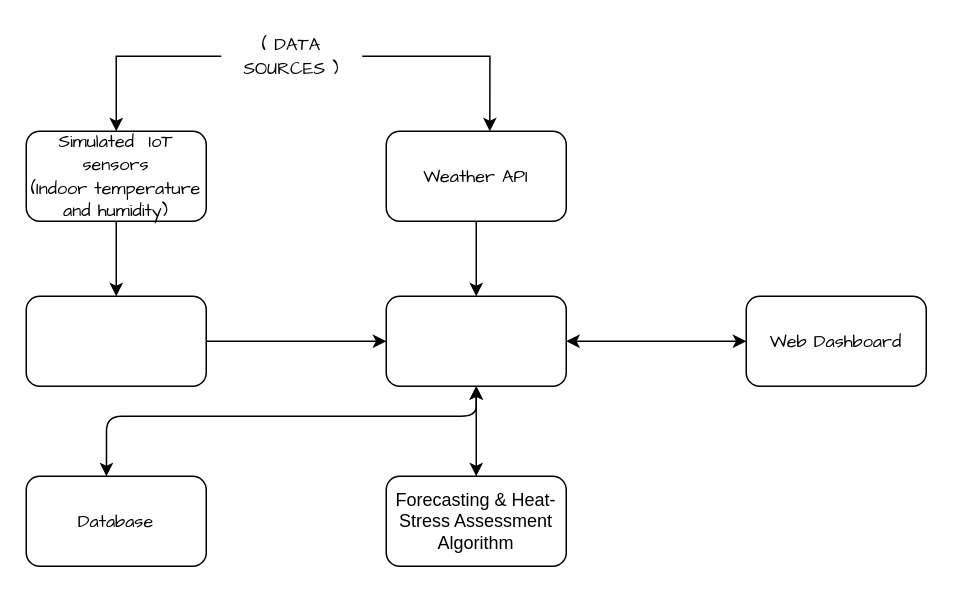
The diagram is 953 pixels wide and 593 high, and some of its shapes have lost their labels. Here are the shapes that lost their labels. From the top down, the centre of each, then its label:
At (x=115, y=340): "MQTT Server".
At (x=475, y=340): "Flask Backend".
